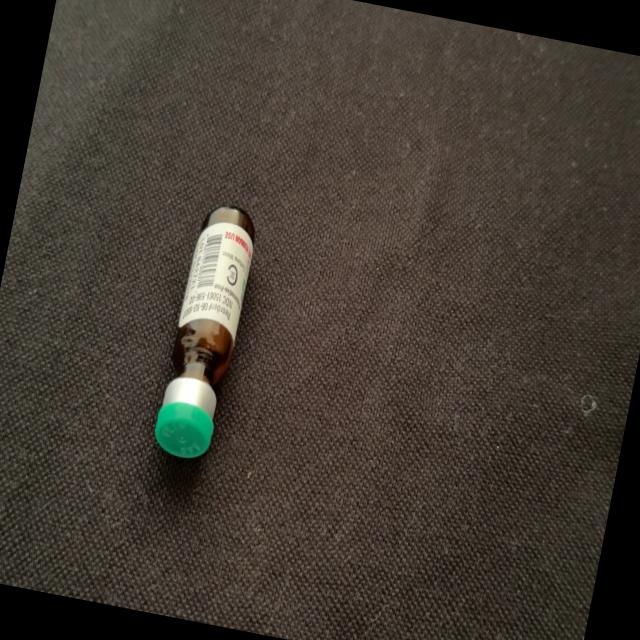midazolm: (152, 204, 260, 461)
